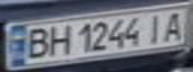1: (72, 20, 93, 53)
2: (90, 18, 112, 52)
4: (121, 14, 148, 47), (106, 16, 130, 50)
A: (157, 9, 190, 43)
B: (18, 25, 54, 60)
H: (45, 22, 72, 56)
I: (142, 11, 169, 44)
